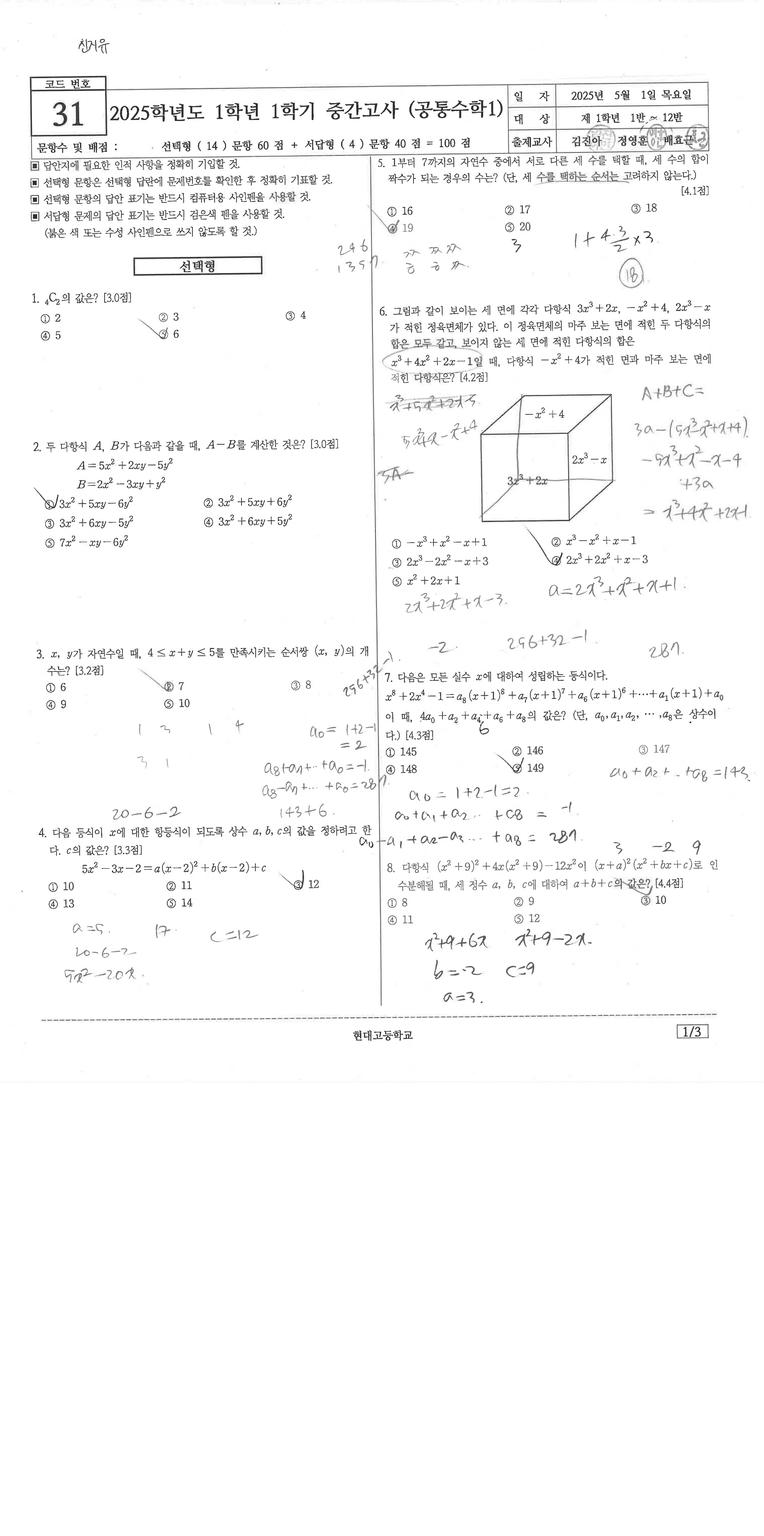problem: (377, 295, 734, 595), (383, 663, 727, 799), (28, 433, 364, 558), (32, 818, 373, 909), (374, 154, 723, 235), (24, 636, 373, 711), (381, 854, 725, 929), (28, 287, 363, 348)
